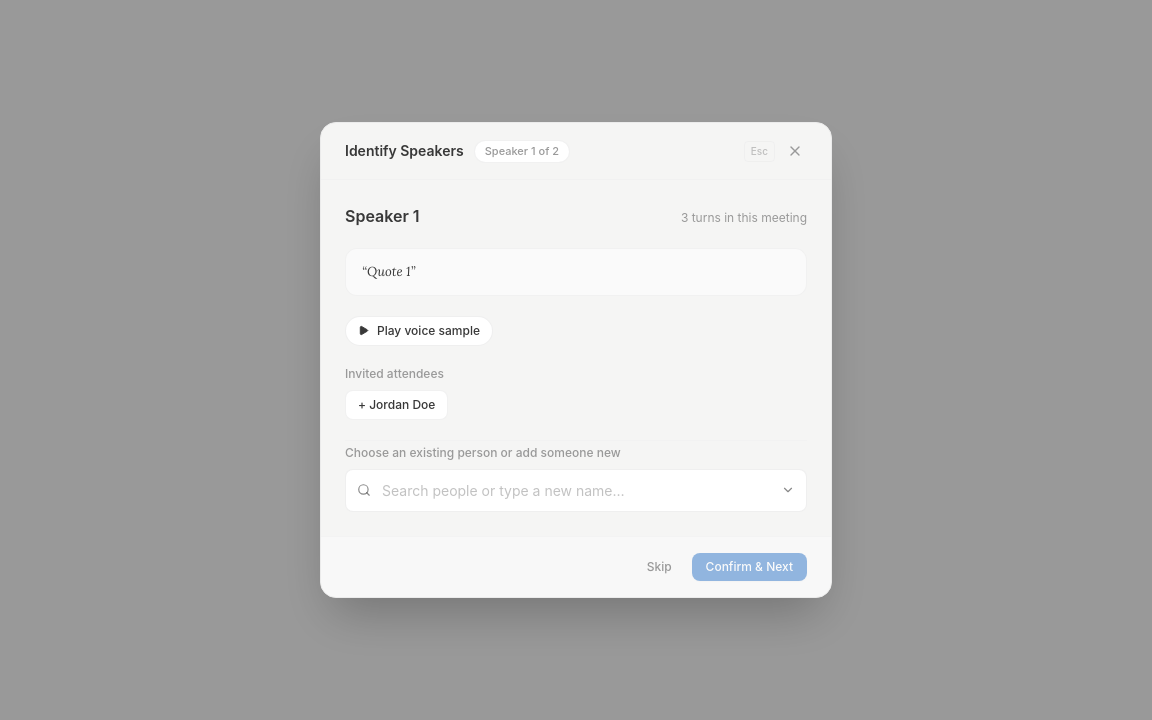
Scenario: SpeakerIdentificationModal › 1-click attendee chip auto-advances to next speaker and saves binding
Click the button "+ Jordan Doe" at (397, 405), box [345,390,448,420]
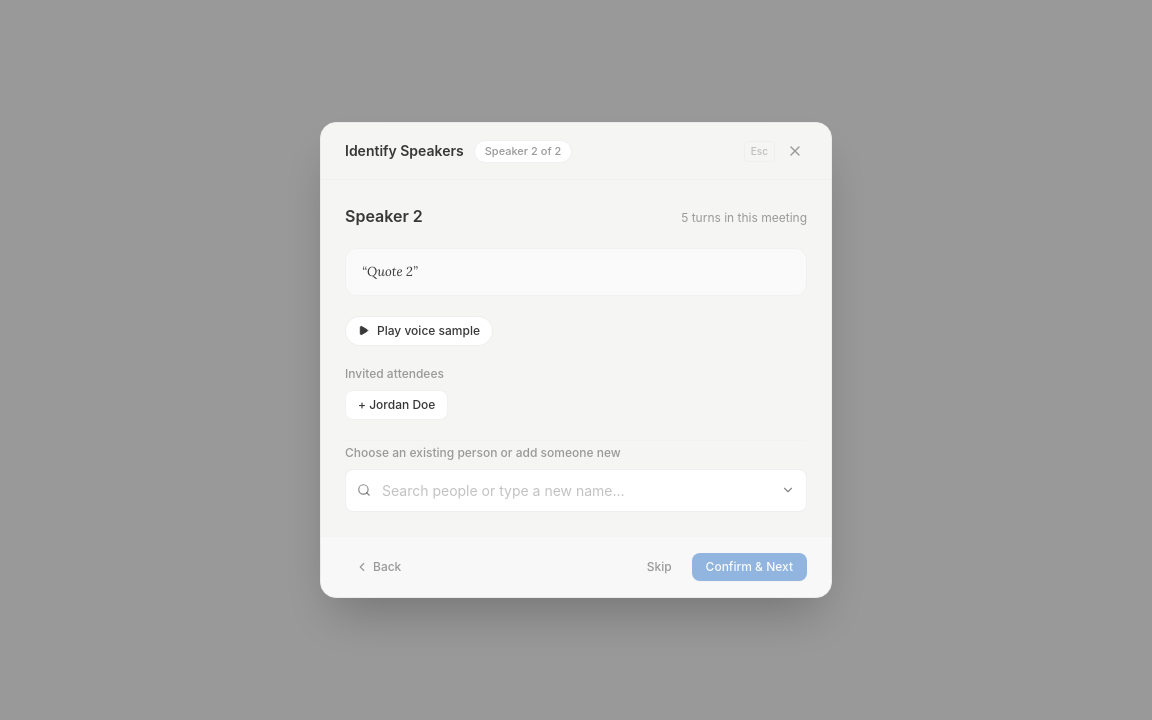
Now the text "Speaker 2 of 2" is shown, box [474,140,572,163]
Now the text "Quote 2" is shown, box [367,263,413,280]
